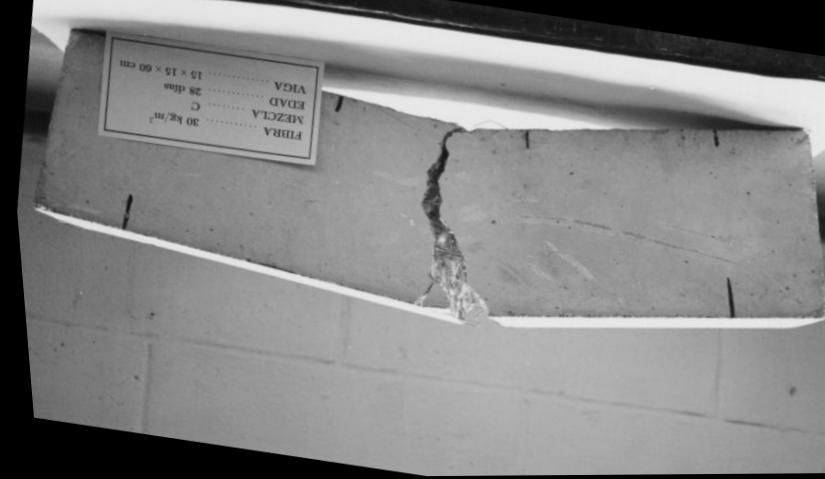damage: (408, 127, 486, 322)
